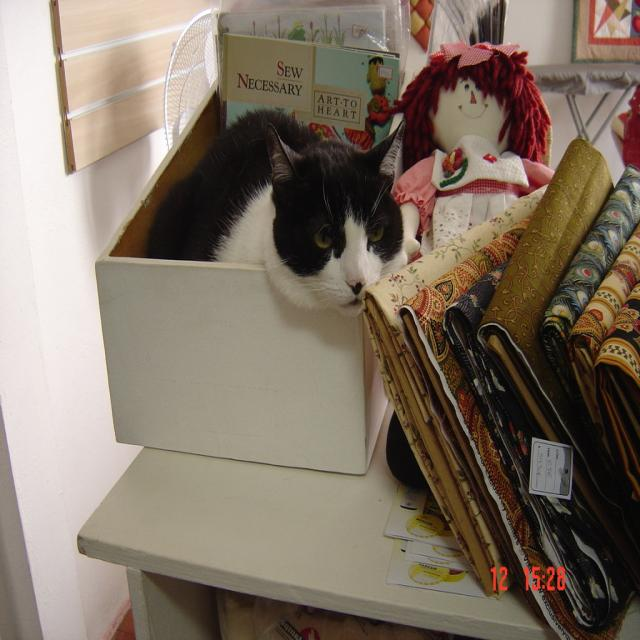Cat: (139, 96, 413, 327)
